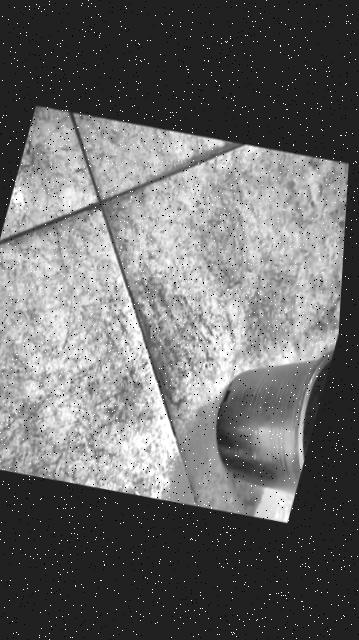pot: (193, 328, 334, 510)
